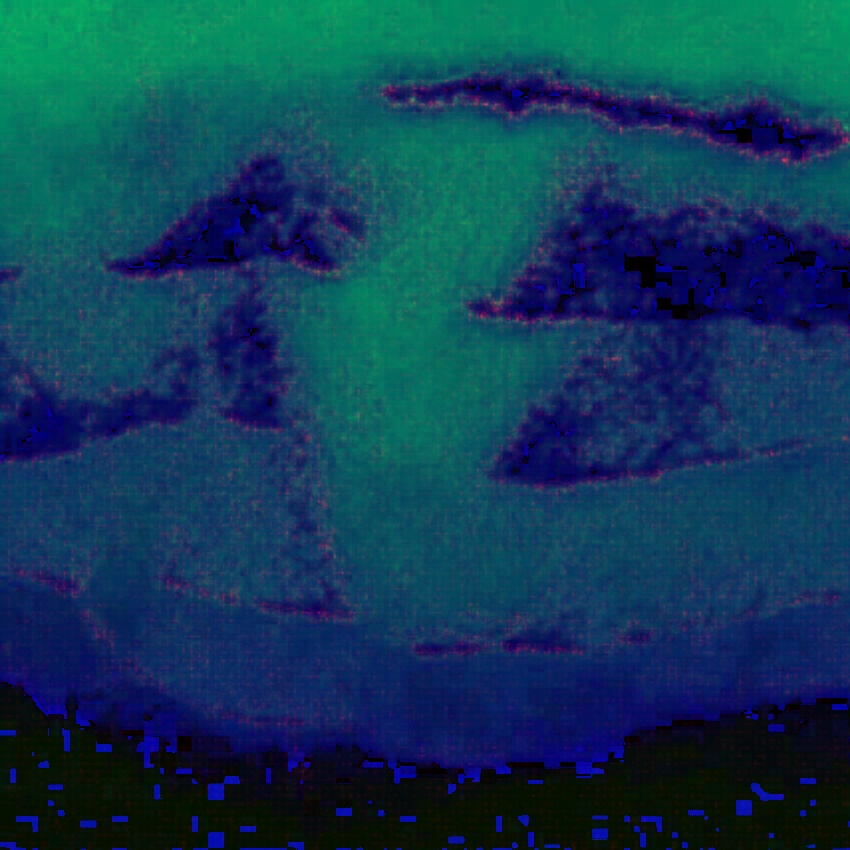rip_current: (220, 114, 611, 672)
